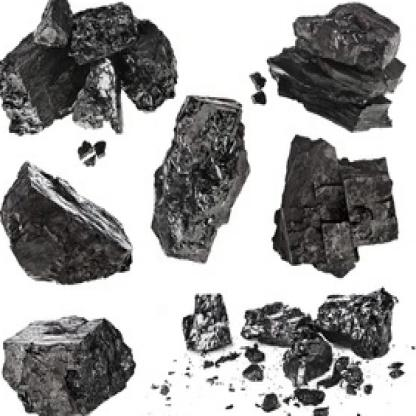Sedimentary_coal: (0, 158, 142, 290), (149, 87, 251, 266), (0, 302, 139, 414), (266, 131, 362, 278), (0, 0, 75, 143), (264, 34, 409, 97), (279, 0, 392, 68), (121, 16, 186, 108), (344, 150, 401, 252), (58, 0, 142, 63)
